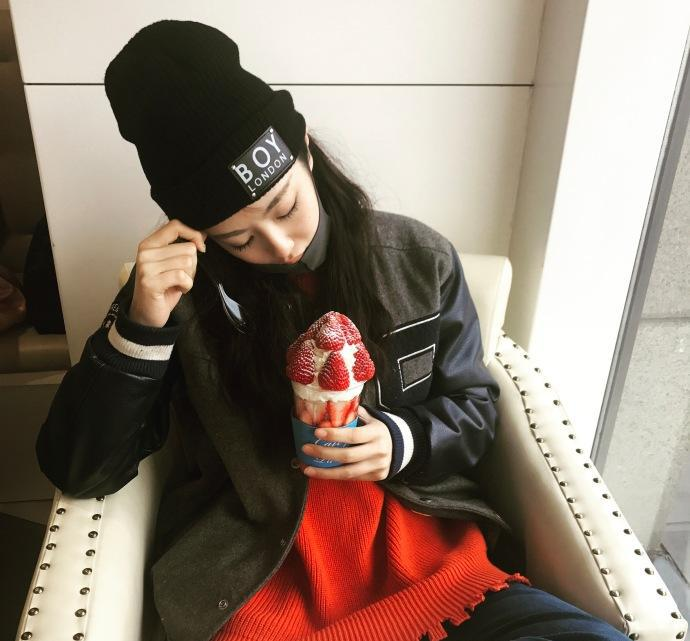WRONG: (216, 174, 331, 287)
